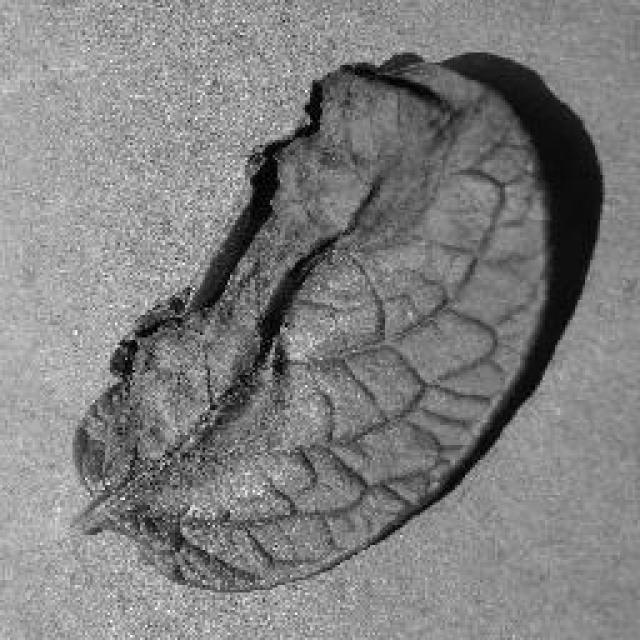Potato: (68, 48, 602, 592)
